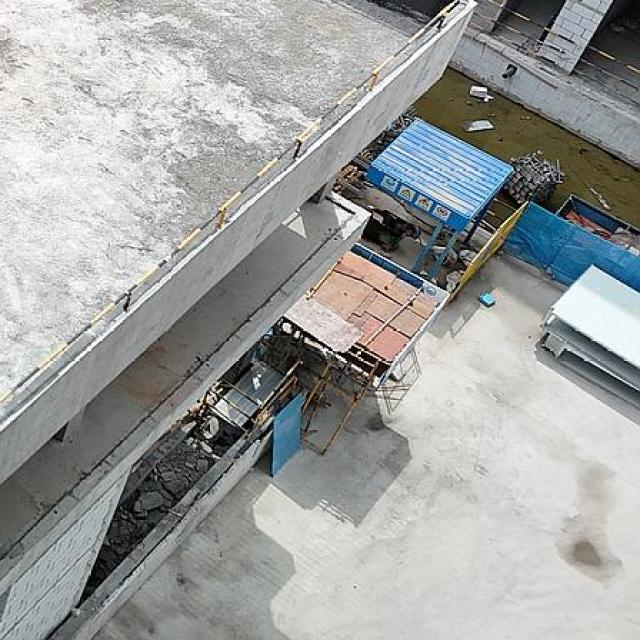edge_guardrail: (0, 0, 460, 403), (467, 0, 580, 66), (130, 408, 197, 472), (571, 45, 640, 106), (480, 196, 517, 231)
